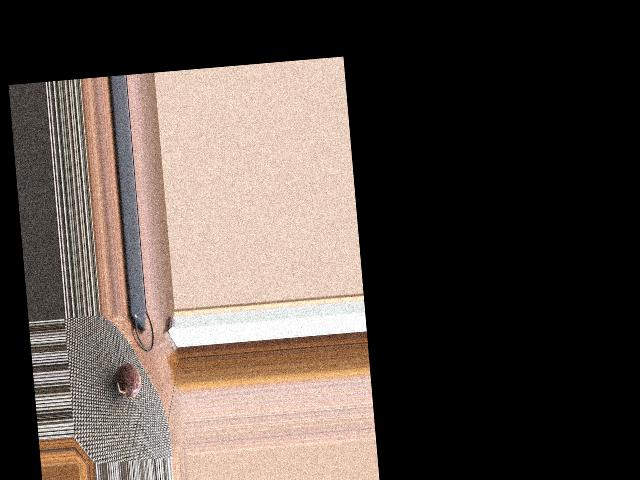beet: (113, 362, 142, 398)
